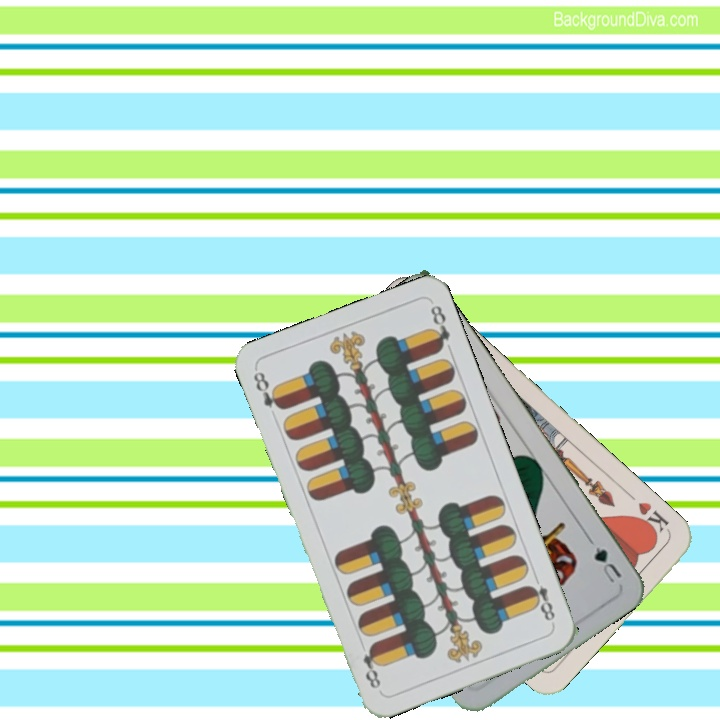E8: (523, 570, 558, 624), (249, 366, 286, 413)
GU: (585, 535, 625, 586)
HK: (630, 497, 672, 539)
